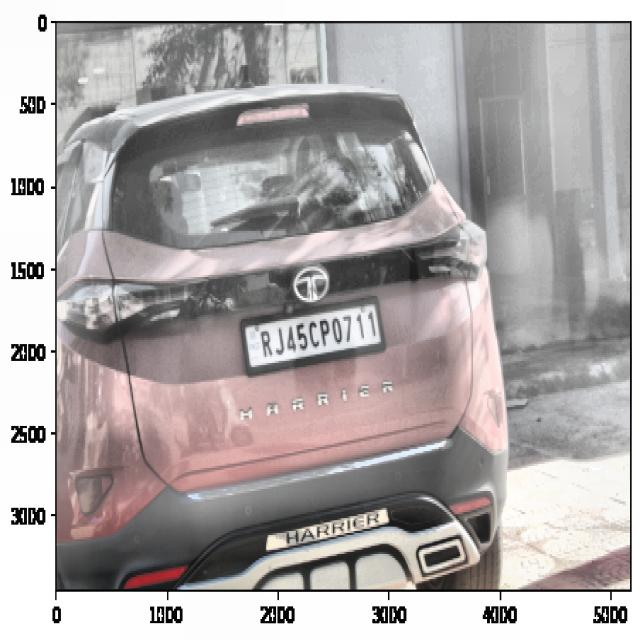license_plate: (254, 305, 382, 363)
